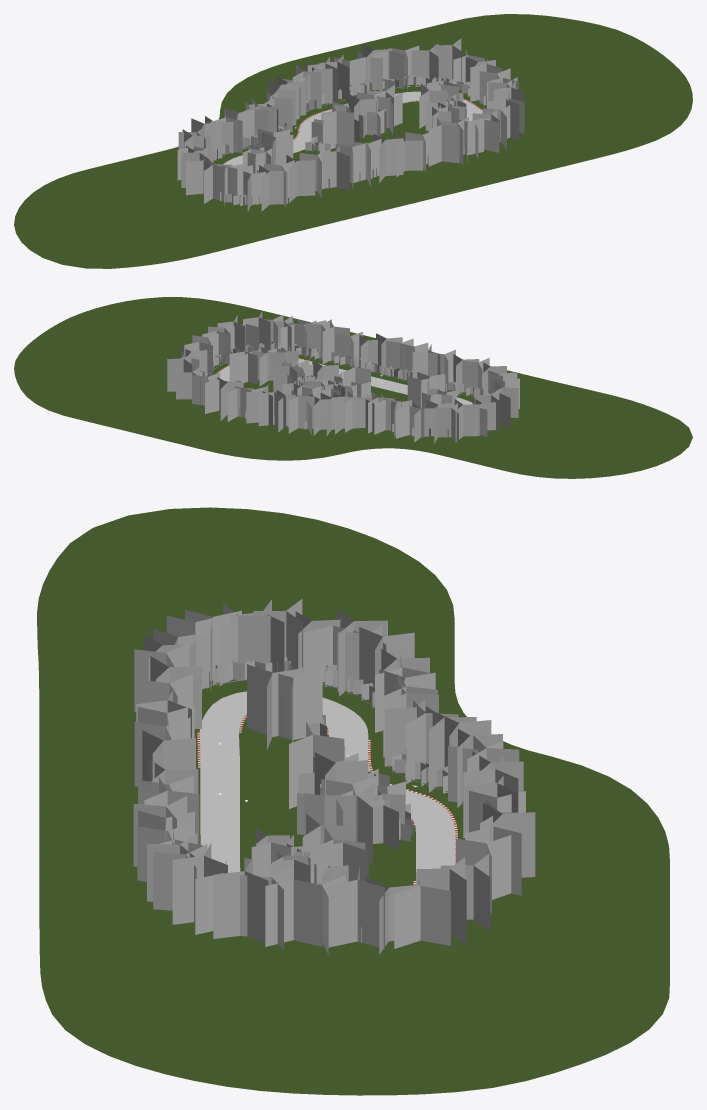
File: AC-CIRCUIT.fbx
3 renders of one model, top to bottom at view 1: azimuth 30°, elevation 25°; view 2: azimuth 150°, elevation 25°; view 3: azimuth 270°, elevation 25°, orthographic. The views are drawn at different scales.
Parts seen in each view (by area): view 1: 1GRASS0, KSTREE_GROUP_B_0.056, KSTREE_GROUP_B_0, 1ROAD0, KSTREE_GROUP_B_0.048, KSTREE_GROUP_B_0.050, KSTREE_GROUP_B_0.053, KSTREE_GROUP_B_0.046, KSTREE_GROUP_B_0.054, KSTREE_GROUP_B_0.068, KSTREE_GROUP_B_0.014, KSTREE_GROUP_B_0.013 (+31 smaller); view 2: 1GRASS0, KSTREE_GROUP_B_0.037, KSTREE_GROUP_B_0.023, KSTREE_GROUP_B_0.021, KSTREE_GROUP_B_0.033, KSTREE_GROUP_B_0.066, KSTREE_GROUP_B_0.036, 1ROAD0, KSTREE_GROUP_B_0.047, KSTREE_GROUP_B_0.049, KSTREE_GROUP_B_0.020, KSTREE_GROUP_B_0.064 (+44 smaller); view 3: 1GRASS0, 1ROAD0, KSTREE_GROUP_B_0.010, KSTREE_GROUP_B_0.008, KSTREE_GROUP_B_0.012, KSTREE_GROUP_B_0.006, KSTREE_GROUP_B_0.067, KSTREE_GROUP_B_0.042, KSTREE_GROUP_B_0.068, KSTREE_GROUP_B_0.004, KSTREE_GROUP_B_0.015, KSTREE_GROUP_B_0.013 (+37 smaller).
Boxes of the visible parts, <box> form: 1GRASS0: <box>14,14,692,268</box>; KSTREE_GROUP_B_0.056: <box>428,117,459,166</box>; KSTREE_GROUP_B_0: <box>323,103,354,152</box>; 1ROAD0: <box>223,91,482,165</box>; KSTREE_GROUP_B_0.048: <box>286,155,315,202</box>; KSTREE_GROUP_B_0.050: <box>319,144,349,191</box>; KSTREE_GROUP_B_0.053: <box>373,134,403,182</box>; KSTREE_GROUP_B_0.046: <box>259,165,287,211</box>; KSTREE_GROUP_B_0.054: <box>395,134,423,177</box>; KSTREE_GROUP_B_0.068: <box>261,132,293,165</box>; KSTREE_GROUP_B_0.014: <box>411,44,438,81</box>; KSTREE_GROUP_B_0.013: <box>434,38,461,81</box>; 1GRASS0: <box>14,297,692,478</box>; KSTREE_GROUP_B_0.037: <box>454,399,479,441</box>; KSTREE_GROUP_B_0.023: <box>288,390,314,433</box>; KSTREE_GROUP_B_0.021: <box>258,385,285,429</box>; KSTREE_GROUP_B_0.033: <box>396,403,424,438</box>; KSTREE_GROUP_B_0.066: <box>229,345,257,384</box>; KSTREE_GROUP_B_0.036: <box>434,403,458,442</box>; 1ROAD0: <box>218,359,472,404</box>; KSTREE_GROUP_B_0.047: <box>462,358,489,394</box>; KSTREE_GROUP_B_0.049: <box>428,349,455,391</box>; KSTREE_GROUP_B_0.020: <box>246,384,272,427</box>; KSTREE_GROUP_B_0.064: <box>259,346,284,385</box>; 1GRASS0: <box>37,507,669,1095</box>; 1ROAD0: <box>199,691,455,884</box>; KSTREE_GROUP_B_0.010: <box>328,866,384,948</box>; KSTREE_GROUP_B_0.008: <box>265,879,322,946</box>; KSTREE_GROUP_B_0.012: <box>394,872,450,948</box>; KSTREE_GROUP_B_0.006: <box>213,858,268,943</box>; KSTREE_GROUP_B_0.067: <box>266,670,322,742</box>; KSTREE_GROUP_B_0.042: <box>219,603,270,685</box>; KSTREE_GROUP_B_0.068: <box>247,664,303,749</box>; KSTREE_GROUP_B_0.004: <box>172,843,227,924</box>; KSTREE_GROUP_B_0.015: <box>456,835,511,914</box>; KSTREE_GROUP_B_0.013: <box>416,857,466,945</box>.
Bounding box in the file's own units: 423 × 23 × 193.
